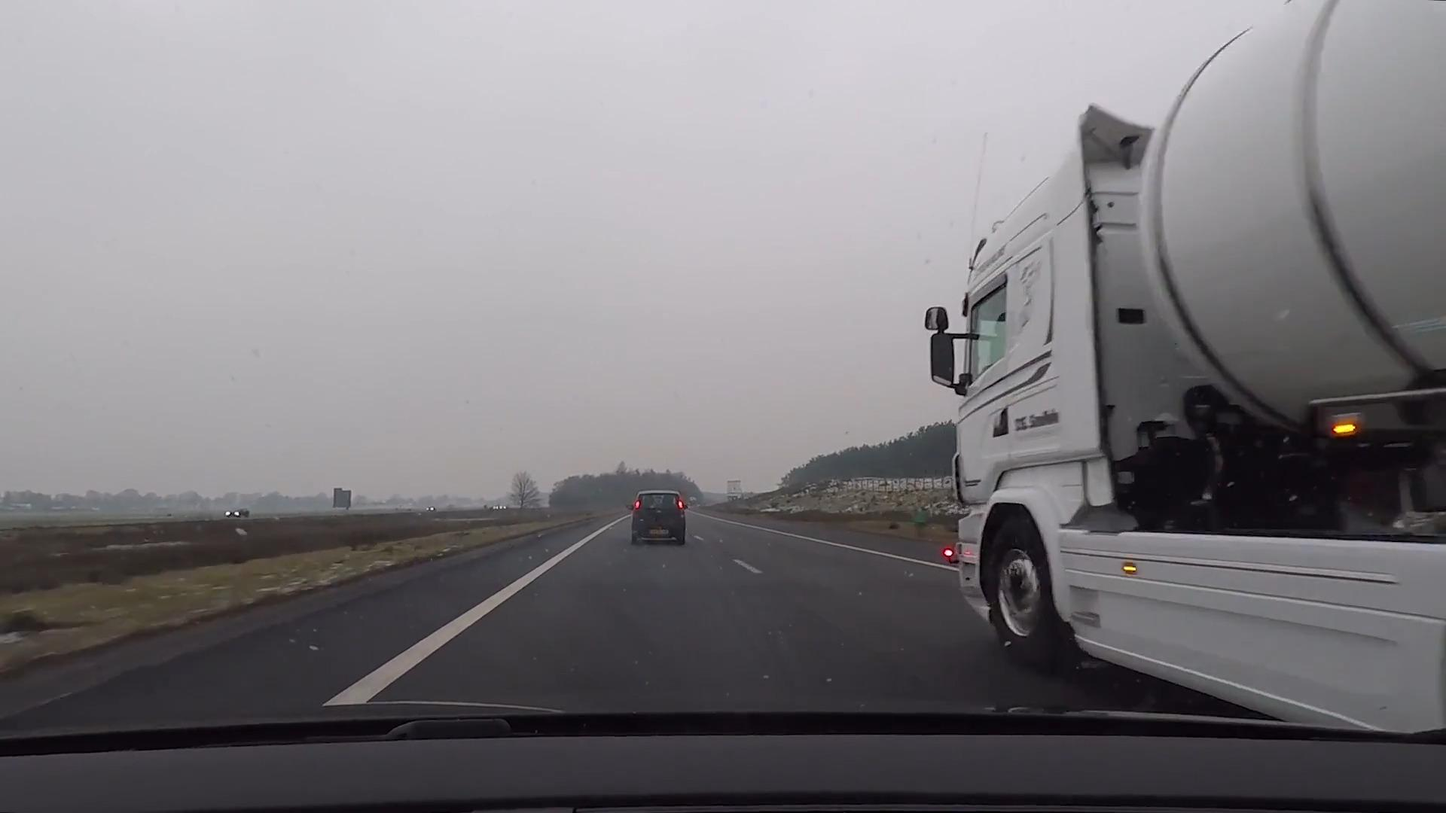dry: (0, 504, 1237, 732)
